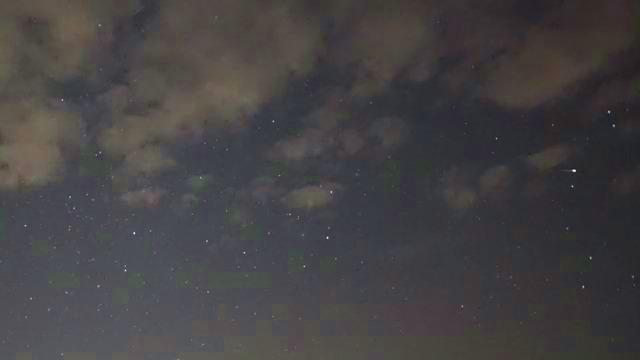meteorite: (550, 164, 581, 175)
